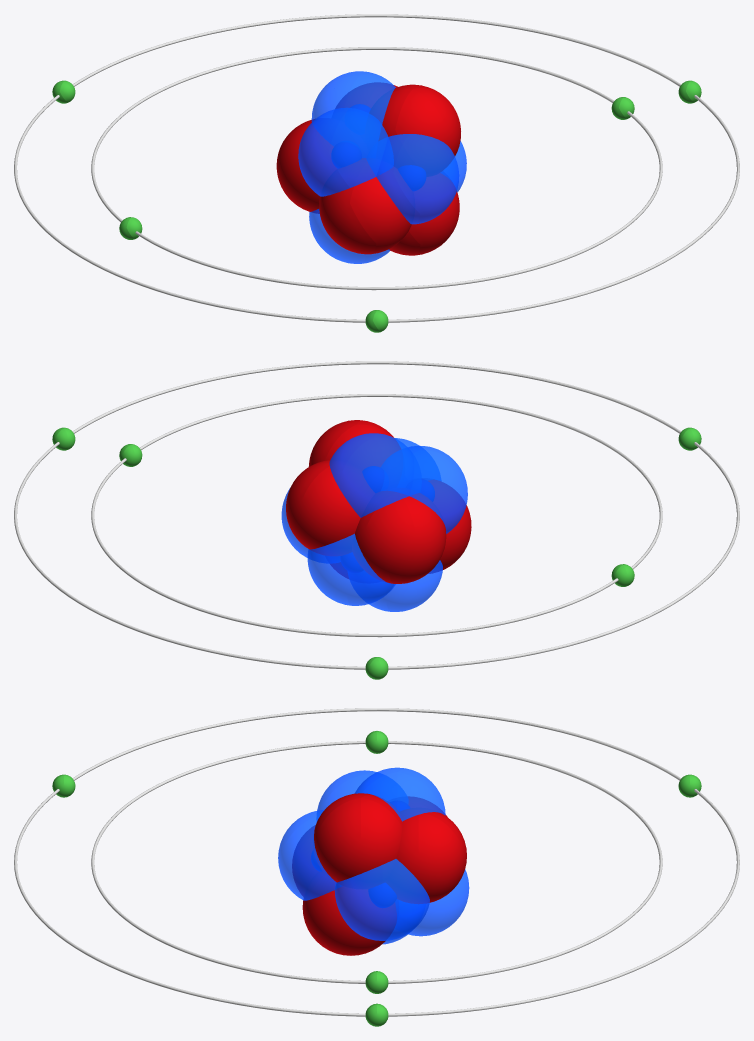
File: element_005_boron.glb
3 renders of one model, top to bottom at view 1: azimuth 30°, elevation 25°; view 2: azimuth 150°, elevation 25°; view 3: azimuth 270°, elevation 25°, orthographic.
Parts seen in each view (by area): view 1: element_005_boron_nucleus, boron_orbital_1_6; view 2: element_005_boron_nucleus, boron_orbital_1_6; view 3: element_005_boron_nucleus, boron_orbital_1_6.
Boxes of the visible parts, x1=… form: element_005_boron_nucleus: x1=276, y1=71, x2=466, y2=263; boron_orbital_1_6: x1=14, y1=14, x2=739, y2=332; element_005_boron_nucleus: x1=281, y1=420, x2=471, y2=611; boron_orbital_1_6: x1=14, y1=361, x2=739, y2=679; element_005_boron_nucleus: x1=278, y1=767, x2=469, y2=955; boron_orbital_1_6: x1=14, y1=708, x2=739, y2=1026.
Size of what is drawn, in the model's own units: 0.6207 by 0.1619 by 0.6122.
